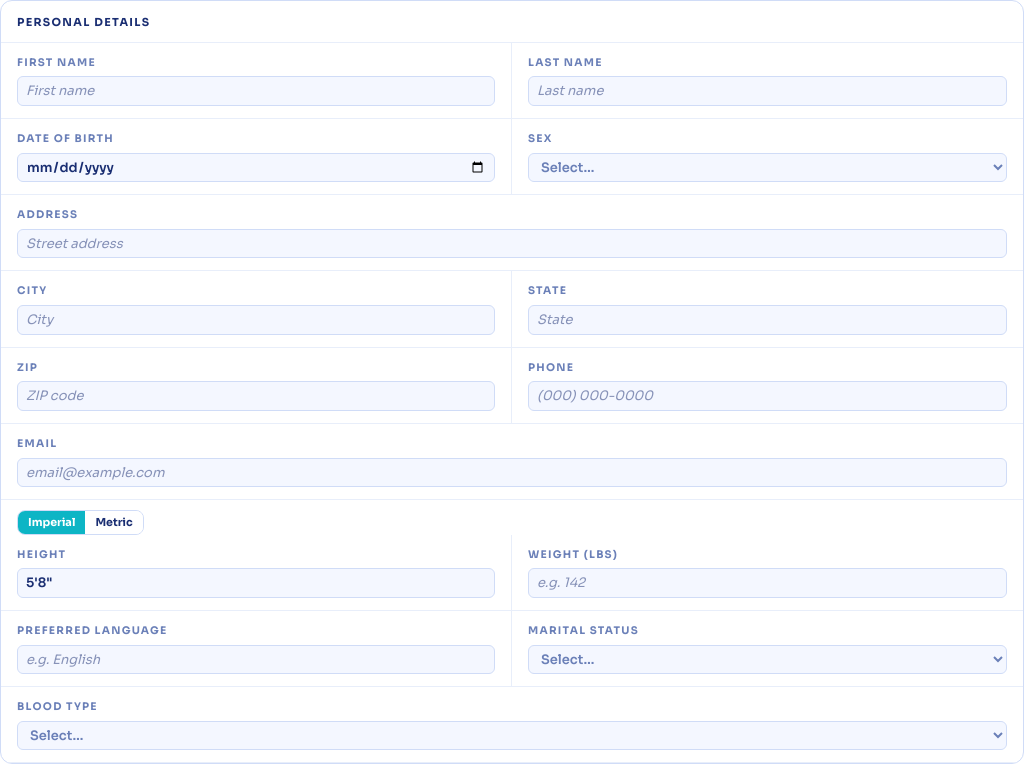
Test: PersonalDetailsForm — store updates › switching to Metric converts displayed height without losing stored ft/in
This screenshot has width=1024, height=768.
Click the button "Metric". click: click(114, 522)
box: [85, 511, 143, 534]
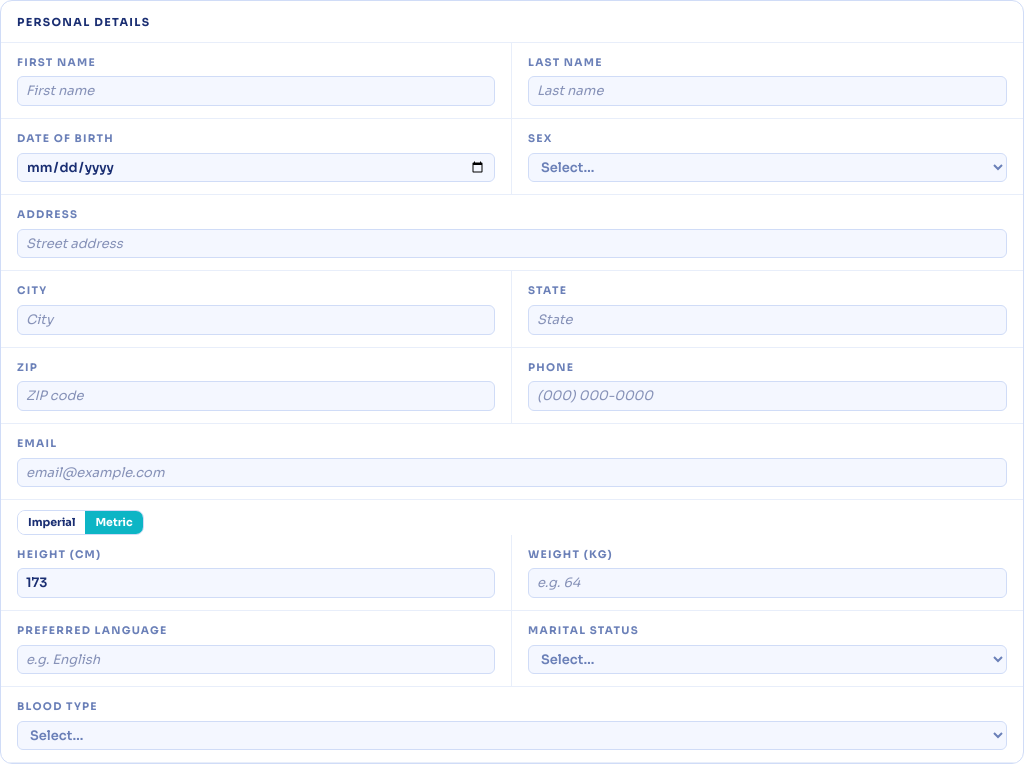
Now the field labelled "Height (cm)" holds "173", box [17, 568, 495, 598]
